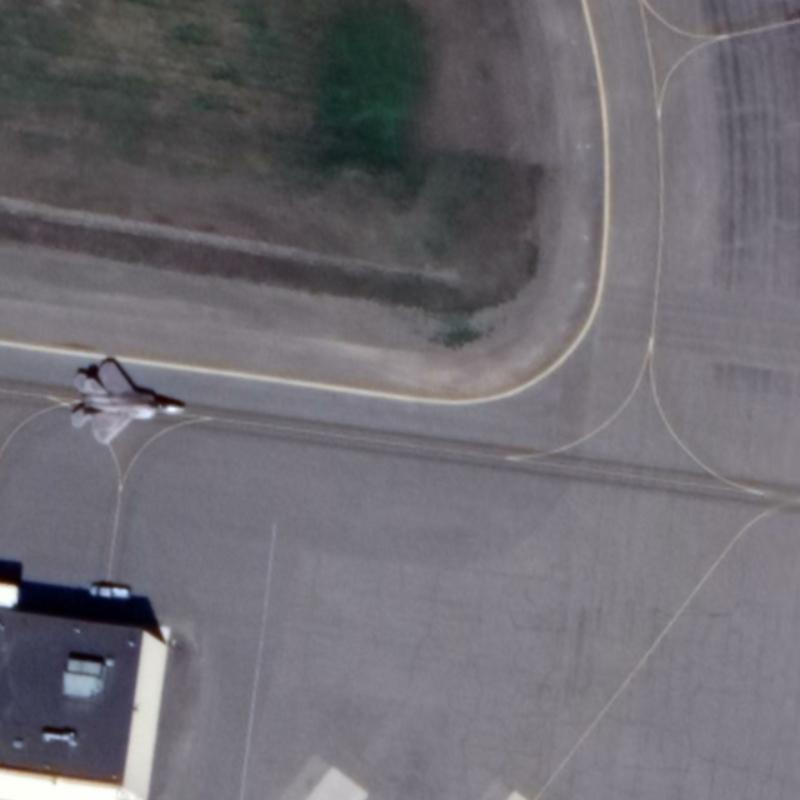A15: (64, 349, 184, 453)
